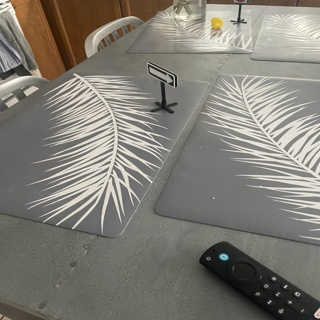sign_oneway_right: (147, 60, 178, 89)
